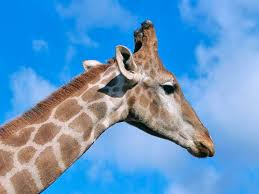Jirafa: (33, 10, 224, 173)
